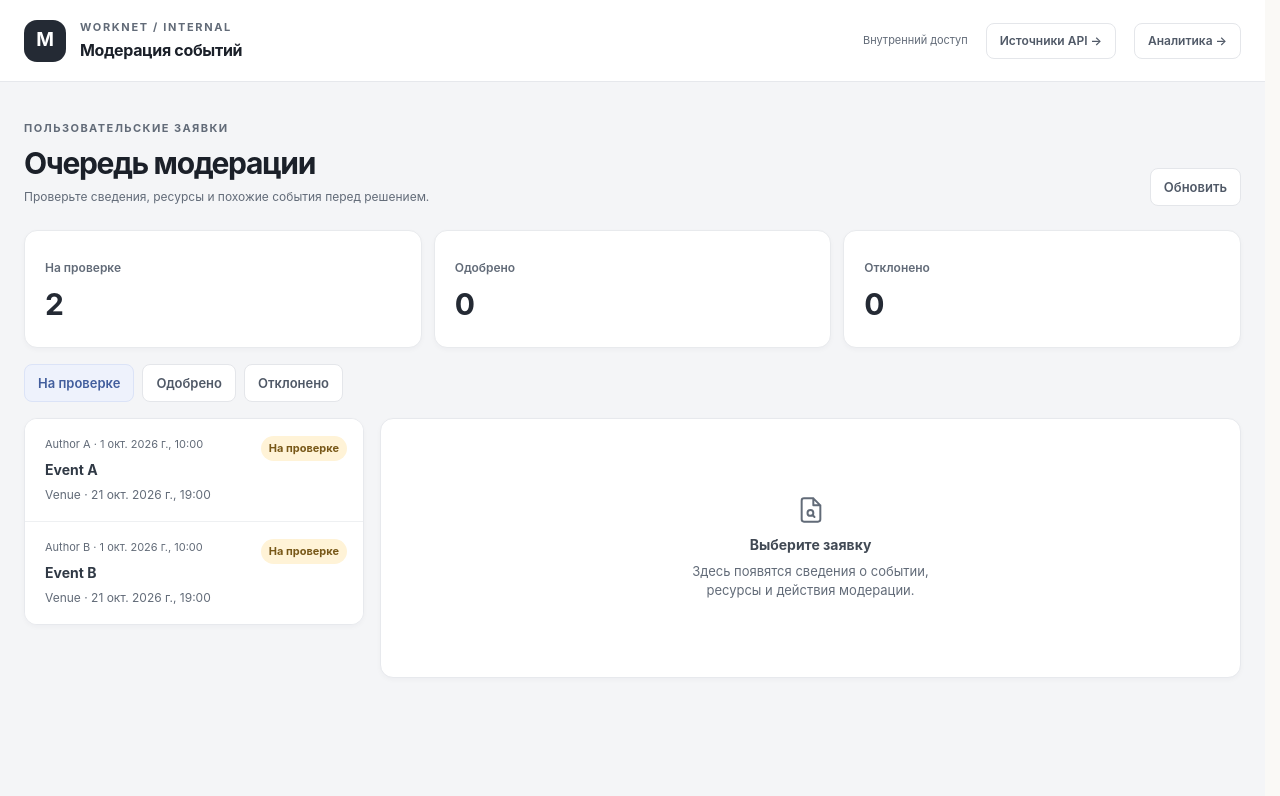
EventModerationPage async request handling › keeps the latest selected detail when responses arrive in reverse order
The image size is (1280, 796).
Click the button "Event A" at (68, 444), box x1=25 y1=419 x2=363 y2=522
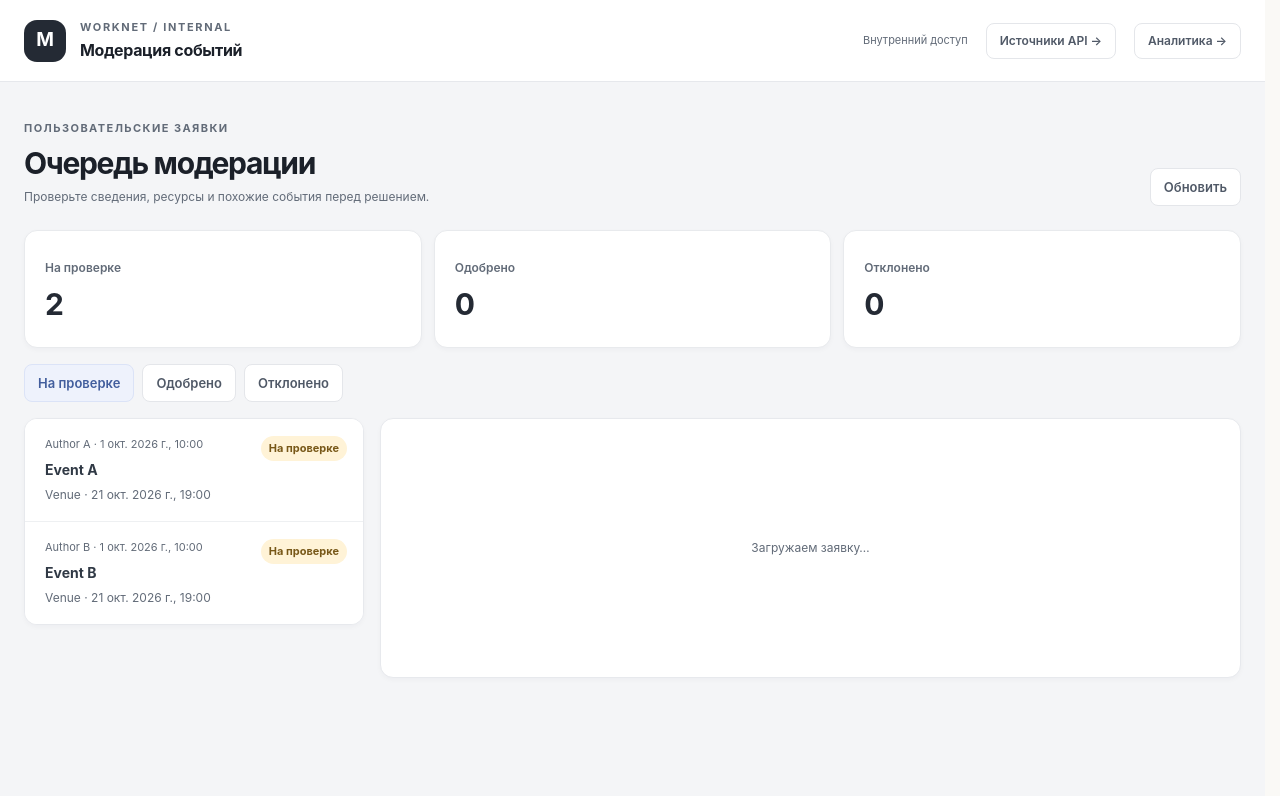
Click the button "Event B" at (68, 547), box x1=25 y1=522 x2=363 y2=624
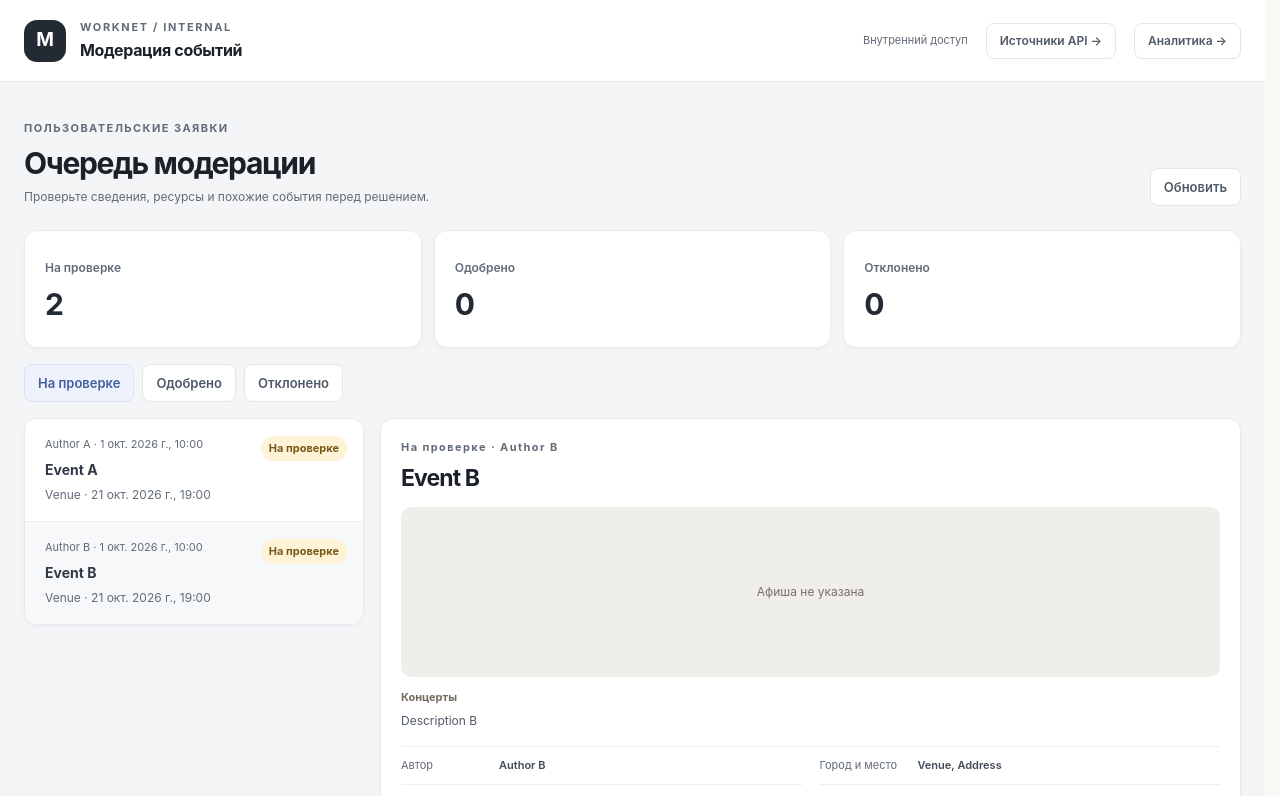
expect the heading "Event B" is shown: met, box x1=401 y1=464 x2=479 y2=492
